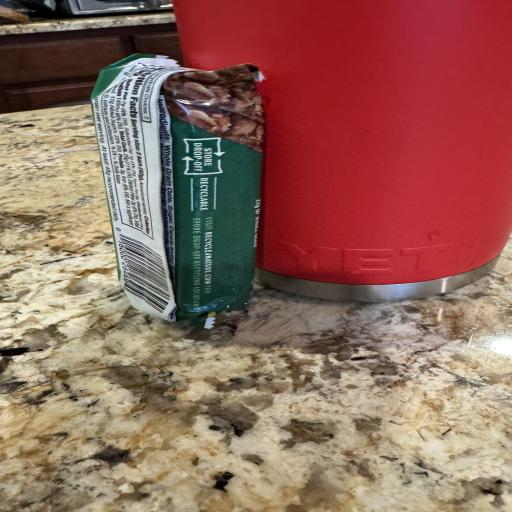granola: (92, 54, 263, 327)
